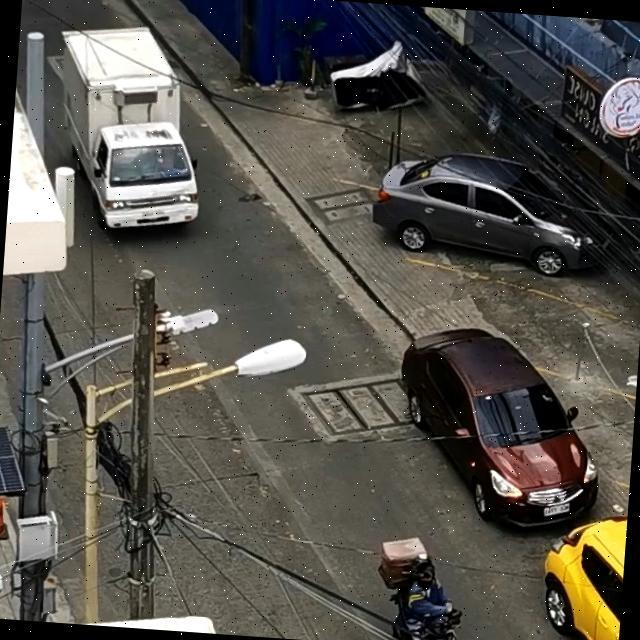Truck: (3, 0, 231, 273)
